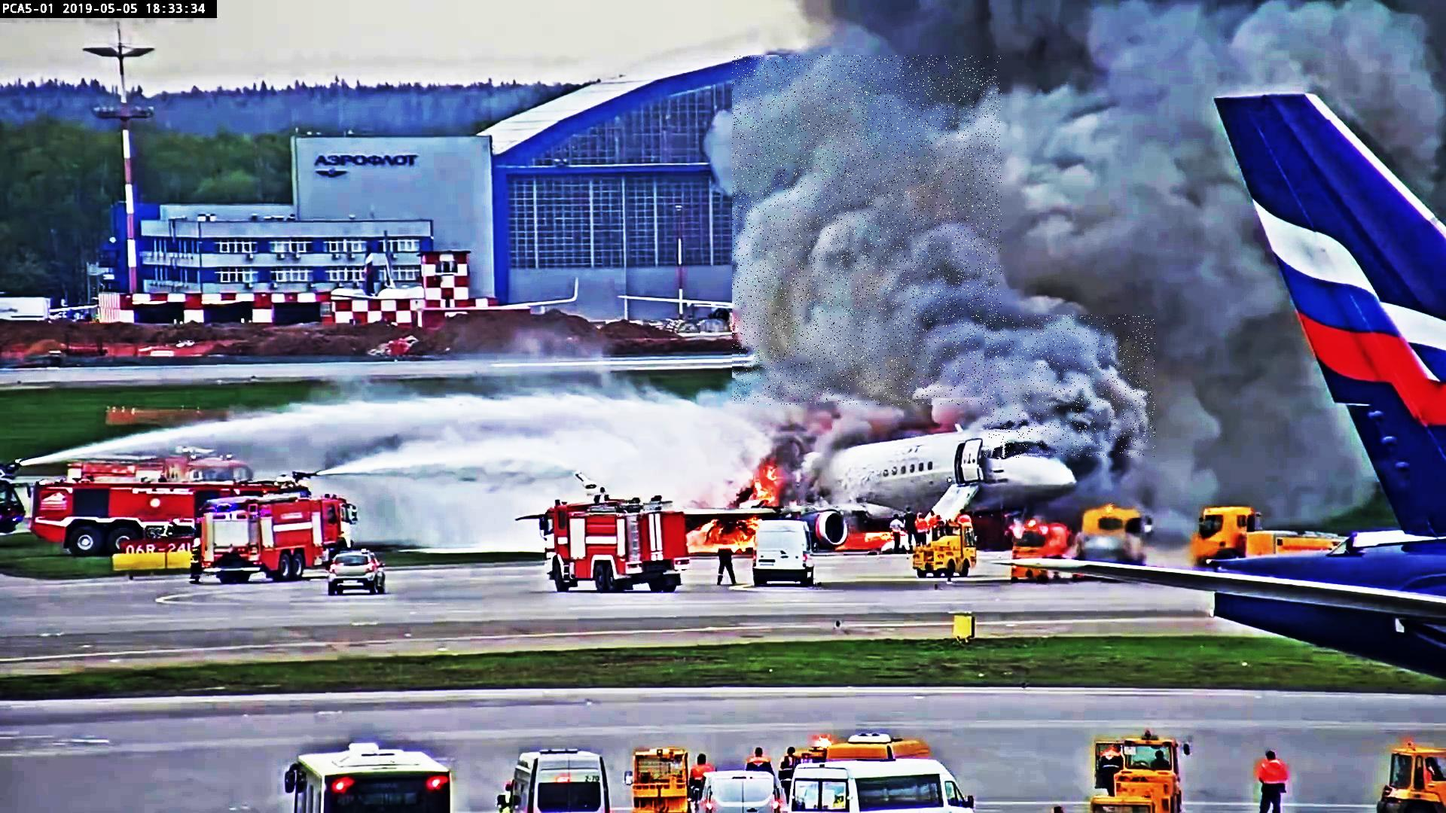smoke: (733, 55, 1002, 405), (983, 315, 1156, 458)
